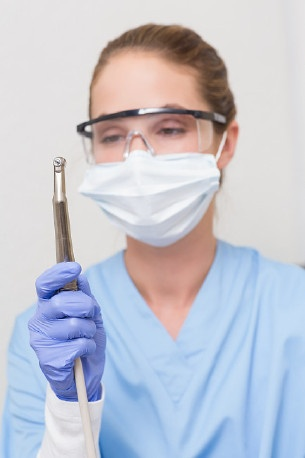Mask: (76, 88, 237, 250)
